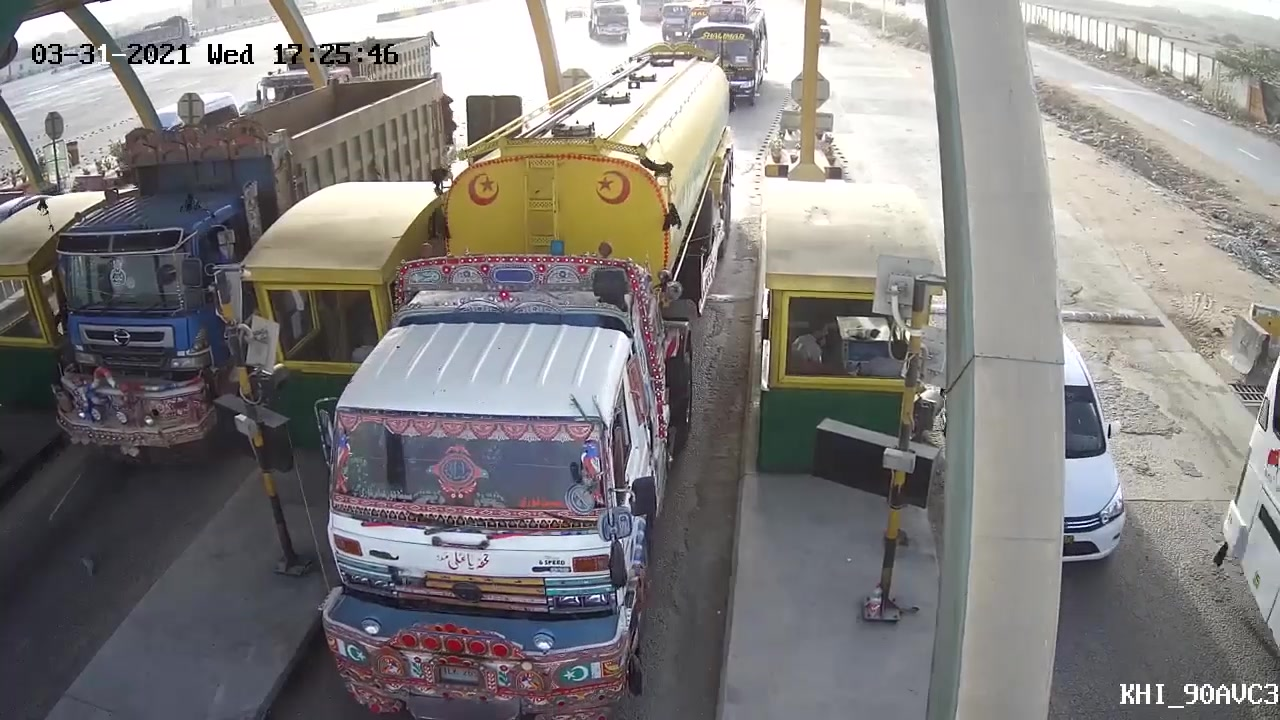F6: (299, 49, 743, 712)
